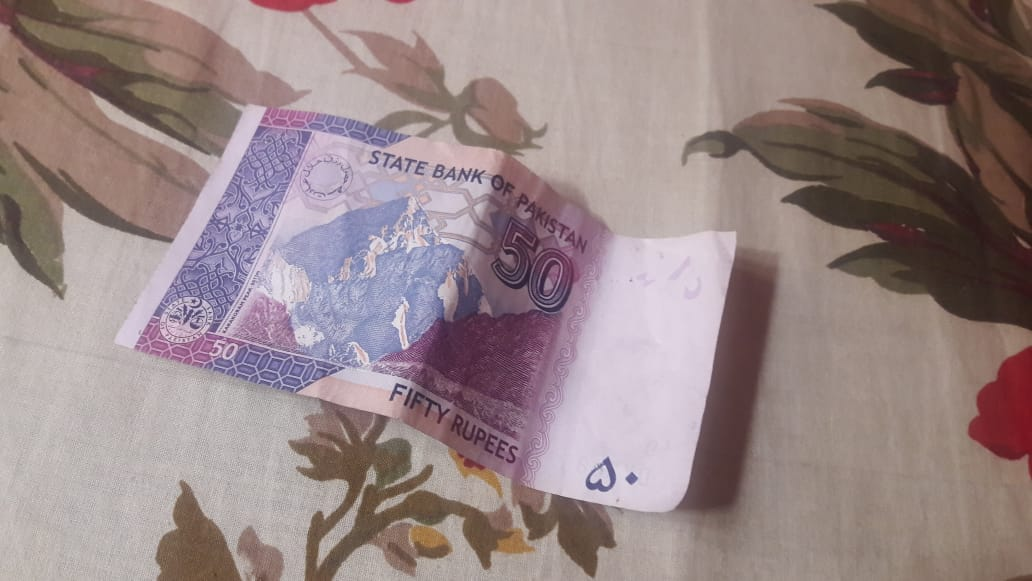50 rupee: (113, 87, 744, 520)
